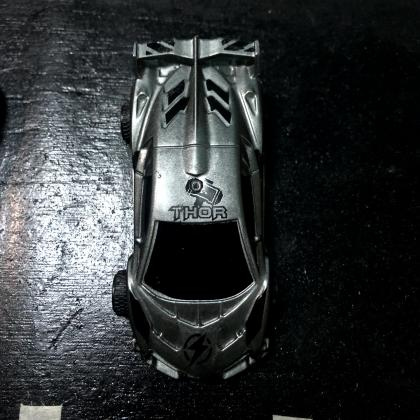Car: (121, 35, 272, 384)
